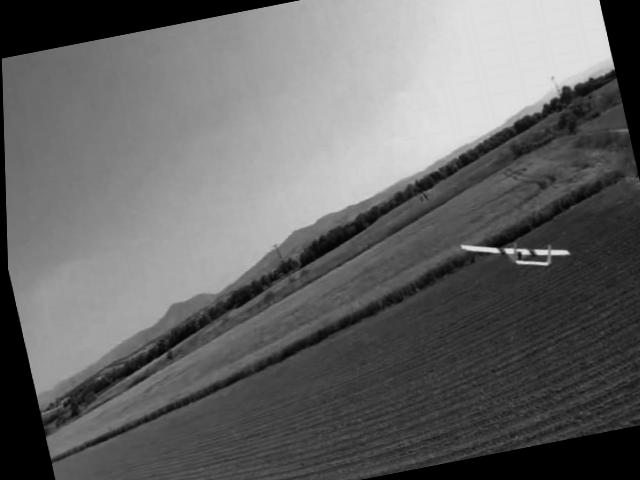hedef: (449, 221, 575, 294)
